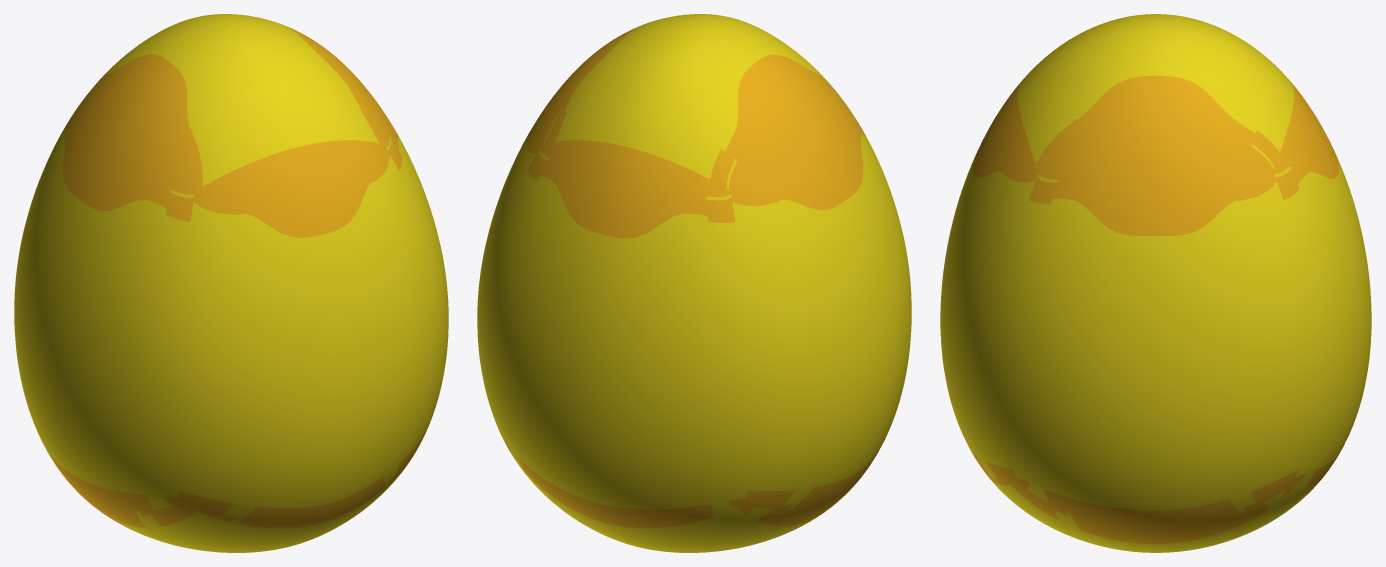
File: Egg.obj
3 views of the same model, side by side, from view 1: azimuth 30°, elevation 25°; view 2: azimuth 150°, elevation 25°; view 3: azimuth 270°, elevation 25° (orthographic).
Visible parts, largest first — view 1: Cube_Cube.001; view 2: Cube_Cube.001; view 3: Cube_Cube.001.
Boxes of the visible parts, box(x1,y1,x2,y2) form: Cube_Cube.001: box(14, 14, 448, 552); Cube_Cube.001: box(477, 14, 911, 552); Cube_Cube.001: box(940, 14, 1371, 552).
Size of the model in its own units: 0.7049 by 0.9147 by 0.7078.
